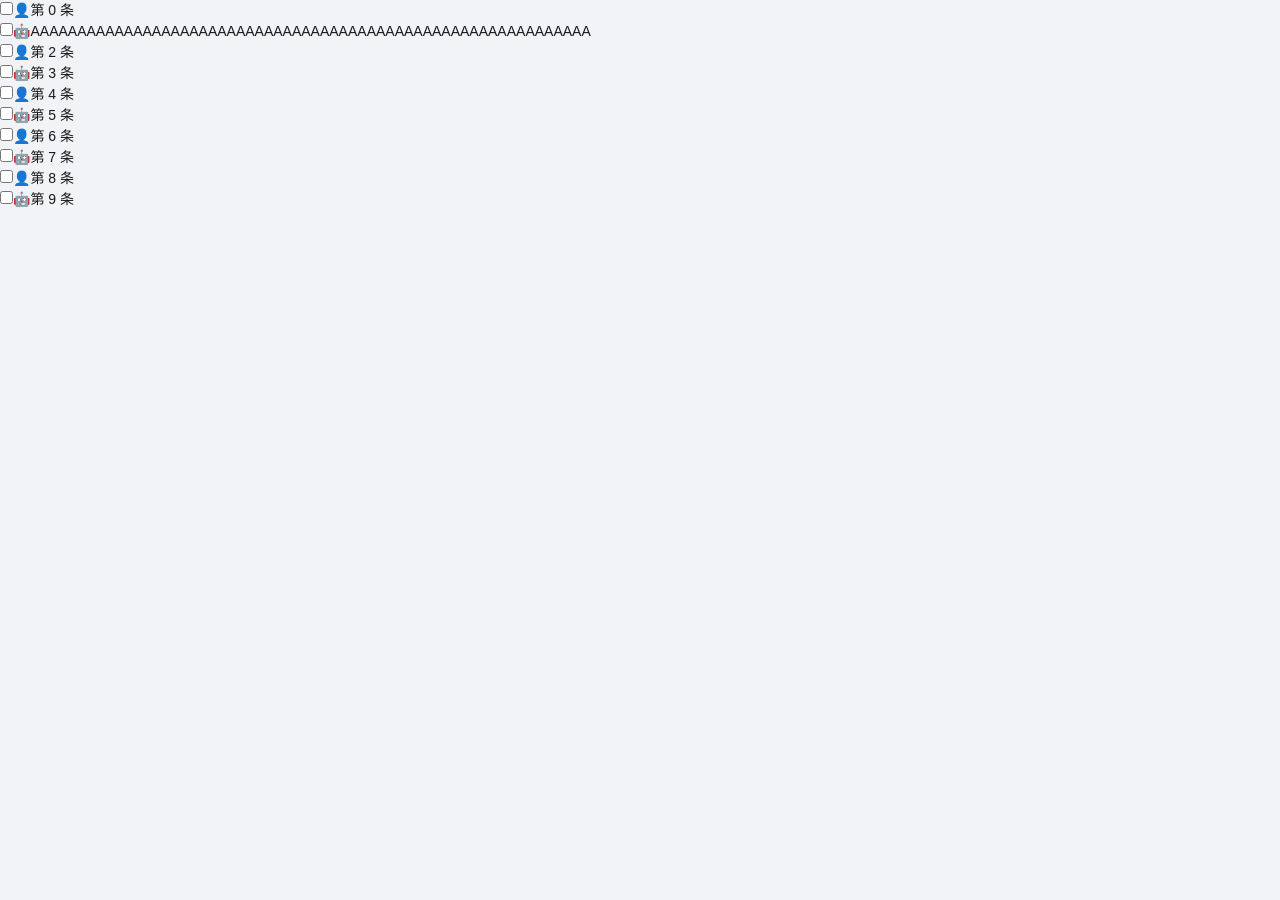
Test: ImportMessageList：行右键菜单 › 「查看详情」→ 弹窗给完整正文（列表预览只截 60 字）+ 思考过程
The width and height of the screenshot is (1280, 900).
Right-click the 2nd element with class "import-kb-msg-item" at (295, 31), box [0,23,591,39]
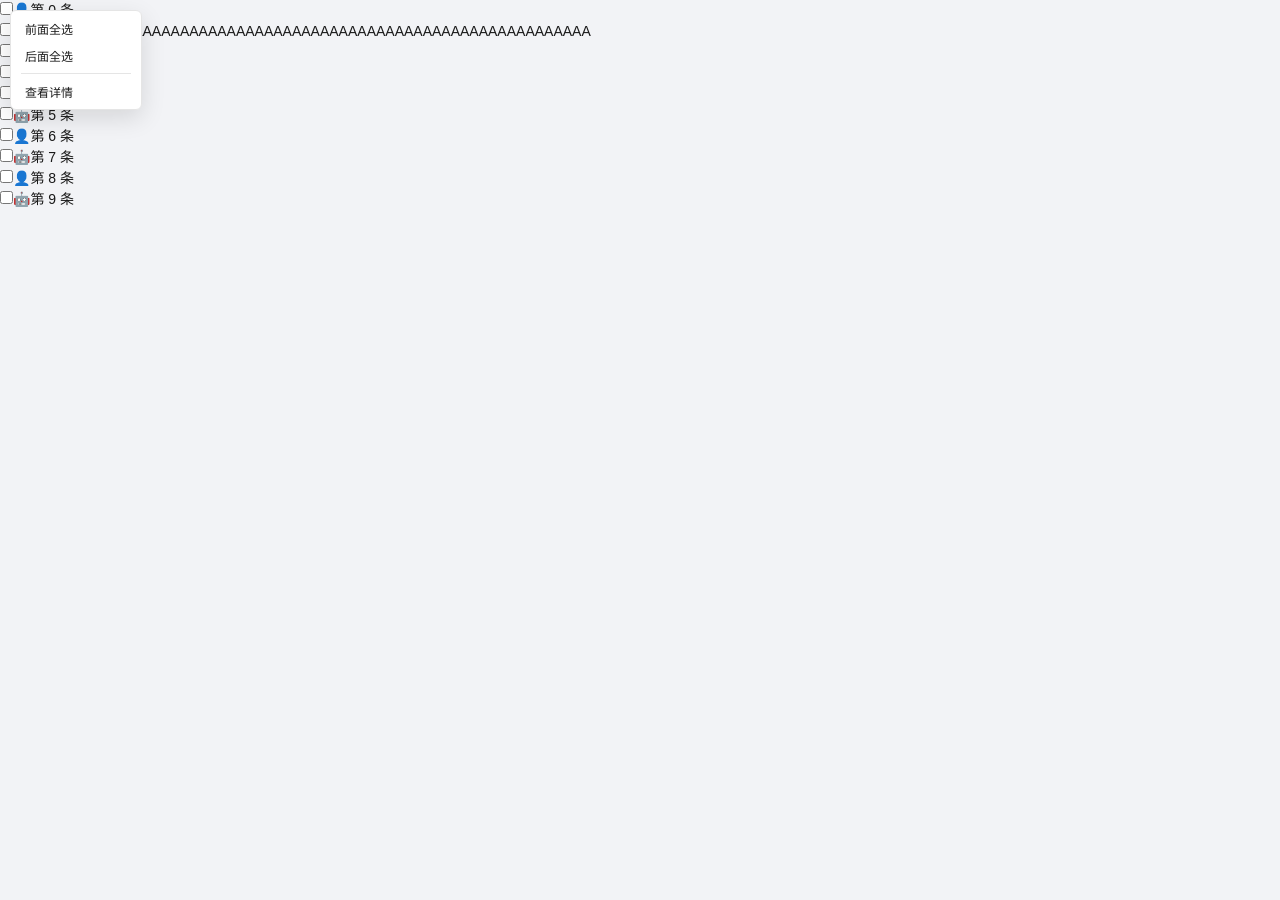
Click the menu item with class "context-menu-item" showing "查看详情" at (76, 92), box [15,78,137,105]
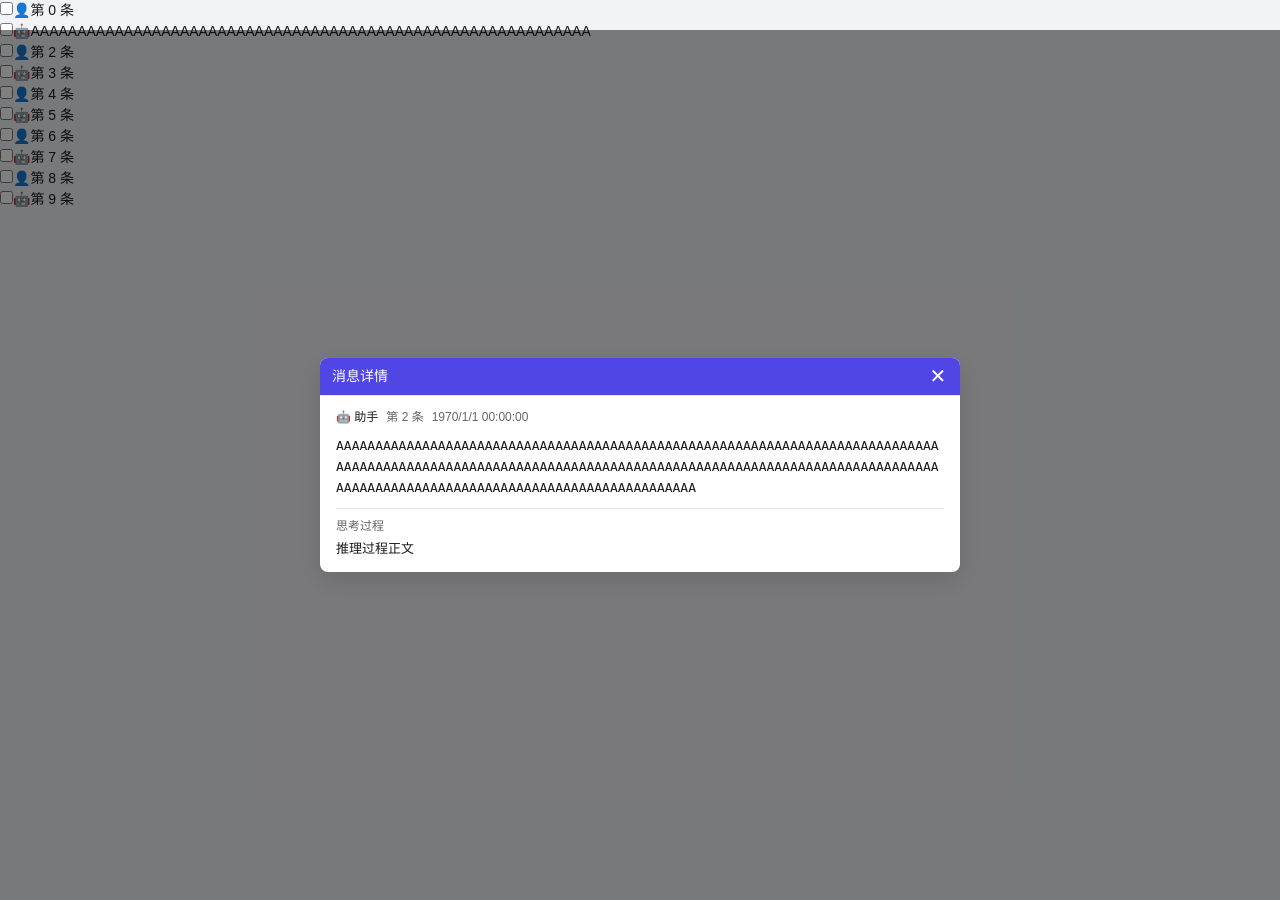
Check: the element with class "msg-detail-modal" is shown, box [320,358,960,572]
Check: the element with class "msg-detail-modal" shows "助手", box [354,410,378,424]
Check: the element with class "msg-detail-modal" shows "第 2 条", box [386,410,424,424]
